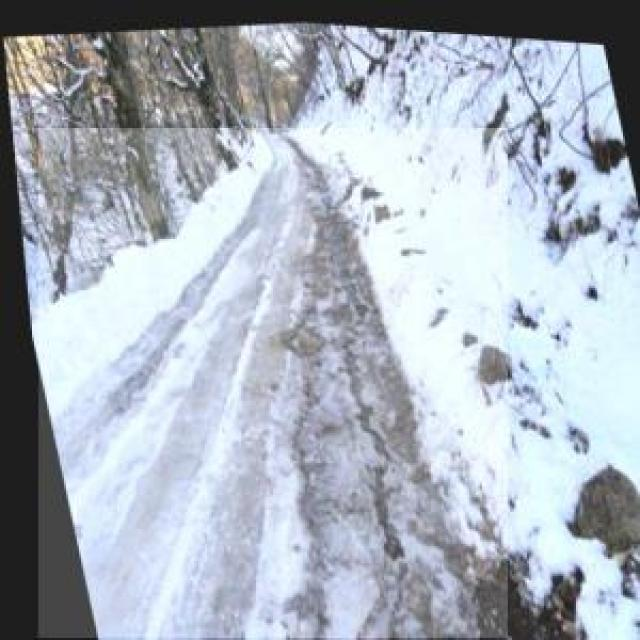ice-road: (39, 129, 507, 638)
